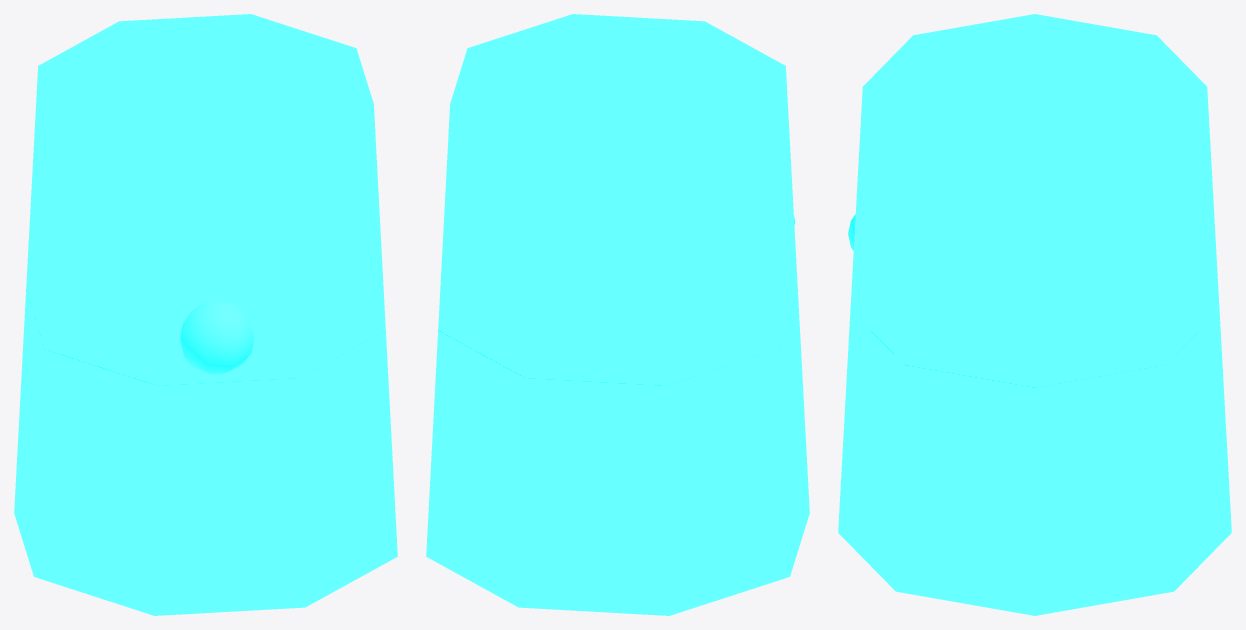
File: victor_head.glb
The picture shows the model from 3 angles, left to right: view 1: azimuth 30°, elevation 25°; view 2: azimuth 150°, elevation 25°; view 3: azimuth 270°, elevation 25°; orthographic projection.
Visible parts, largest first — view 1: VictorHead; view 2: VictorHead; view 3: VictorHead.
Part boxes in pixels (<box>): VictorHead: <box>14,14,397,615</box>; VictorHead: <box>426,14,809,615</box>; VictorHead: <box>838,14,1231,615</box>.
Bounding box in the file's own units: 0.8 × 1 × 0.8.
